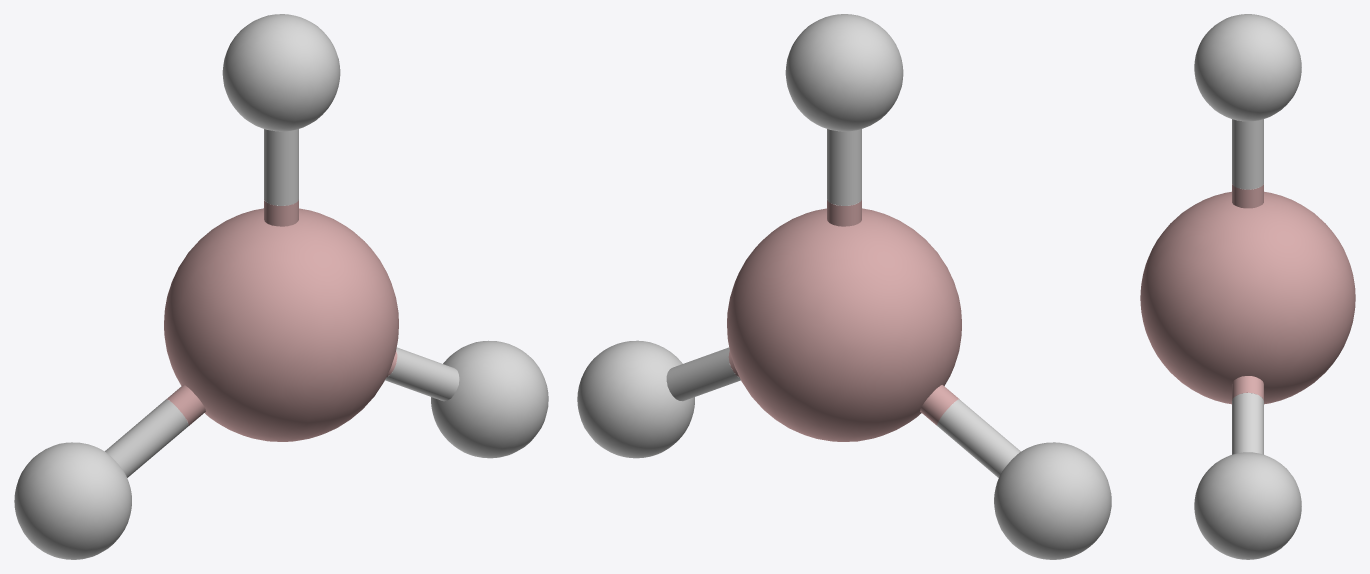
The picture shows the model from 3 angles, left to right: view 1: azimuth 30°, elevation 25°; view 2: azimuth 150°, elevation 25°; view 3: azimuth 270°, elevation 25°; orthographic projection. The views are drawn at different scales.
Visible parts, largest first — view 1: BH3; view 2: BH3; view 3: BH3.
Boxes of the visible parts, bbox=[...] form: BH3: bbox=[14, 14, 548, 559]; BH3: bbox=[577, 14, 1111, 559]; BH3: bbox=[1140, 14, 1355, 559].
Size of the model in its own units: 1.51 by 1.35 by 0.5935.
